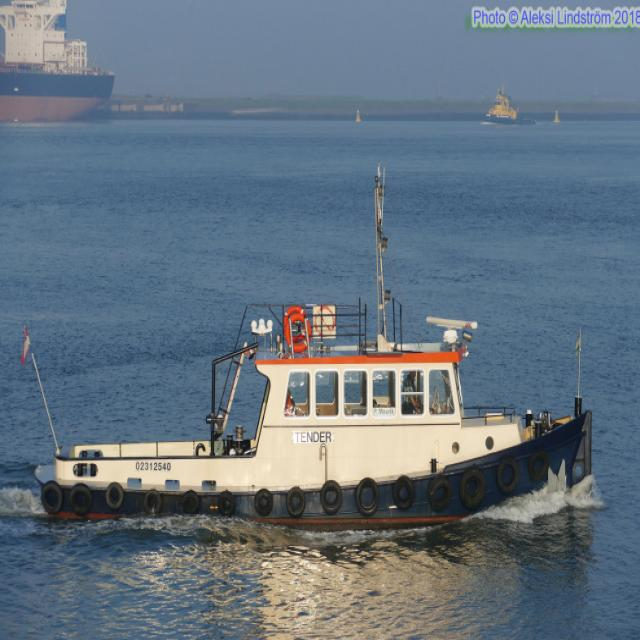tugboat: (19, 159, 597, 536)
